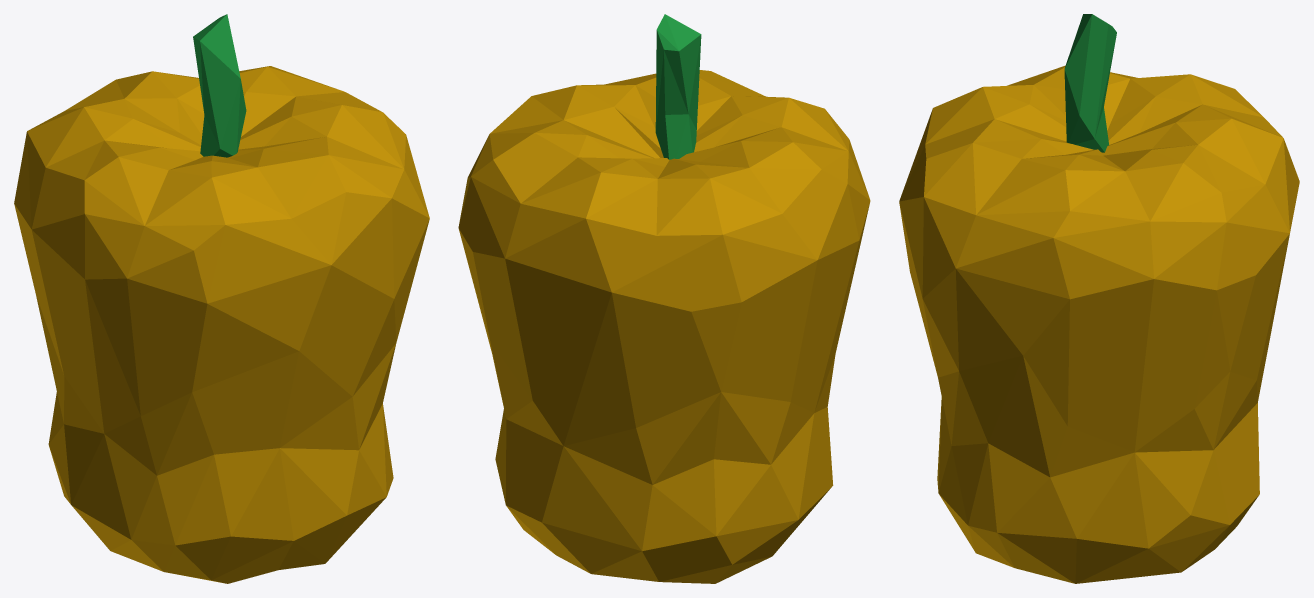
The model's file is Paprika_0.fbx.
The picture shows the model from 3 angles, left to right: view 1: azimuth 30°, elevation 25°; view 2: azimuth 150°, elevation 25°; view 3: azimuth 270°, elevation 25°; orthographic projection.
Parts seen in each view (by area): view 1: Cylinder.007; view 2: Cylinder.007; view 3: Cylinder.007.
Part boxes in pixels (bbox=[...]): Cylinder.007: bbox=[14, 14, 429, 583]; Cylinder.007: bbox=[458, 14, 870, 583]; Cylinder.007: bbox=[899, 14, 1299, 583].
Bounding box in the file's own units: 211 × 308 × 211.
